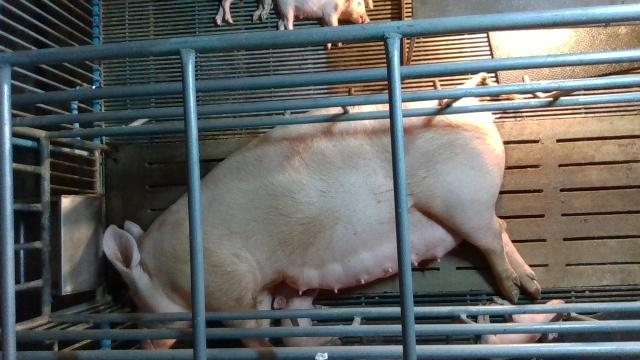piglet: (277, 0, 374, 50), (460, 299, 567, 344), (280, 289, 343, 346)
sow-sleep-lactate: (102, 70, 541, 347)
